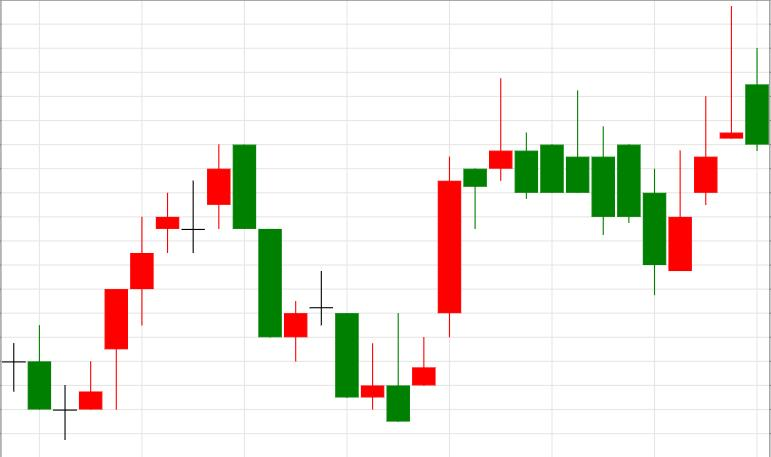bearish_engulfing_fall: (53, 144, 256, 439)
inverse_hammer_rise: (233, 145, 410, 421)
shooting_star_fall: (387, 77, 513, 421)
